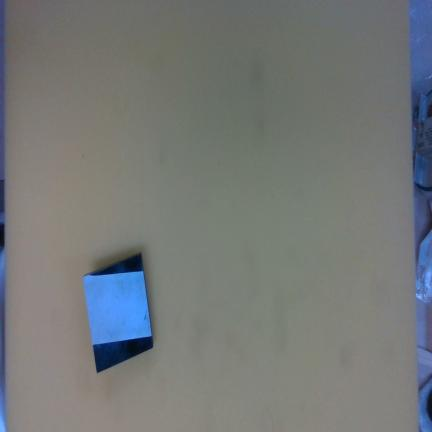tile: (81, 251, 157, 374)
